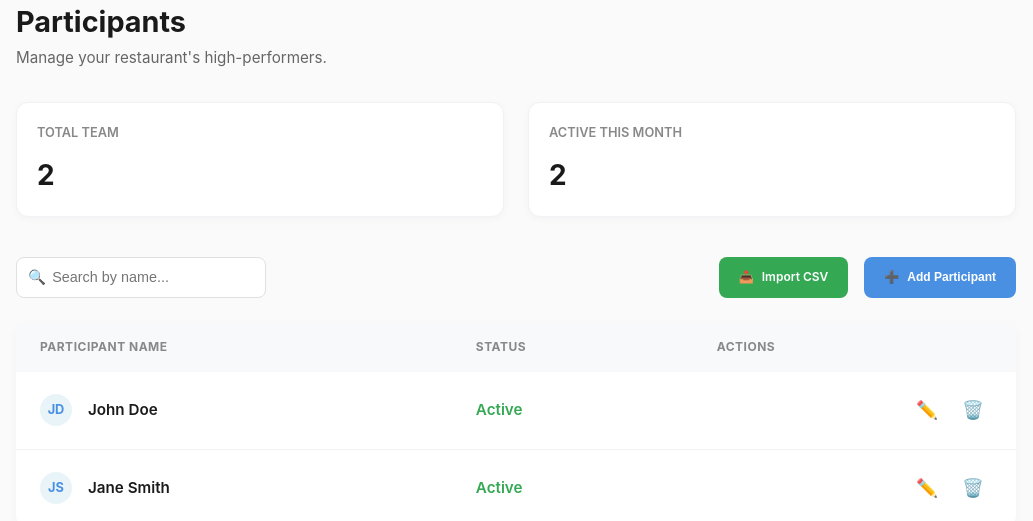
Test: Participants Integration Tests › should render participants list and search correctly
The width and height of the screenshot is (1033, 521).
Check: the text "John Doe" is shown, box 88,399 -> 158,421
Check: the text "Jane Smith" is shown, box 88,477 -> 170,499
// Test search
Type "John" into the field with placeholder "Search by name..." at (141, 277), box 16,257 -> 266,298
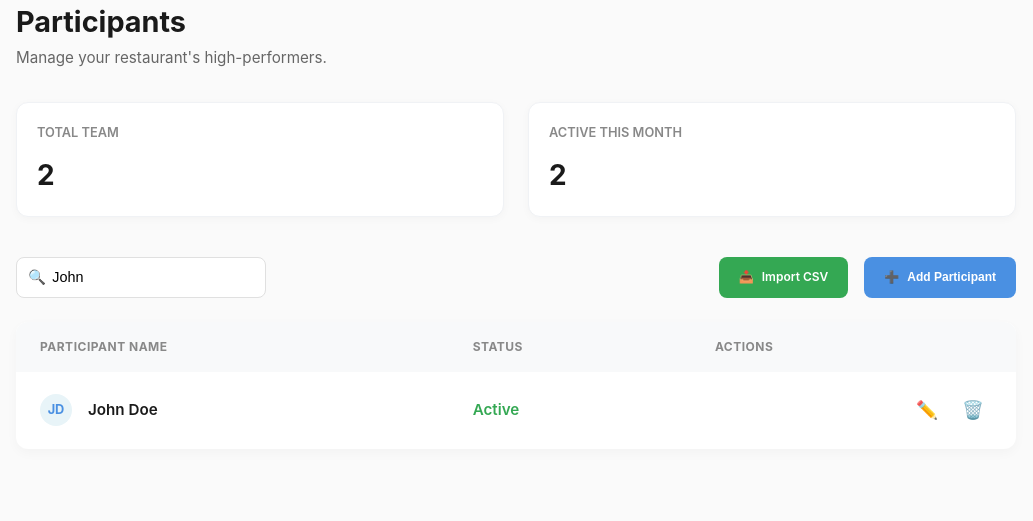
Check: the text "John Doe" is shown, box 88,399 -> 158,421
Check: the text "Jane Smith" is gone
